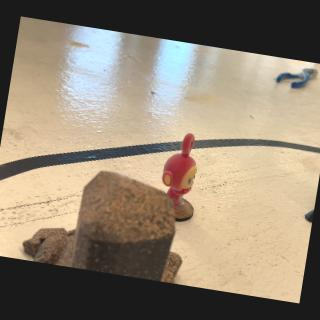teletubby: (162, 133, 197, 211)
